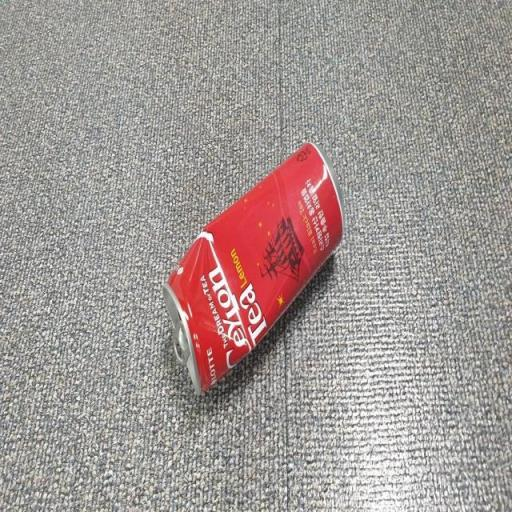metal: (154, 124, 364, 420)
